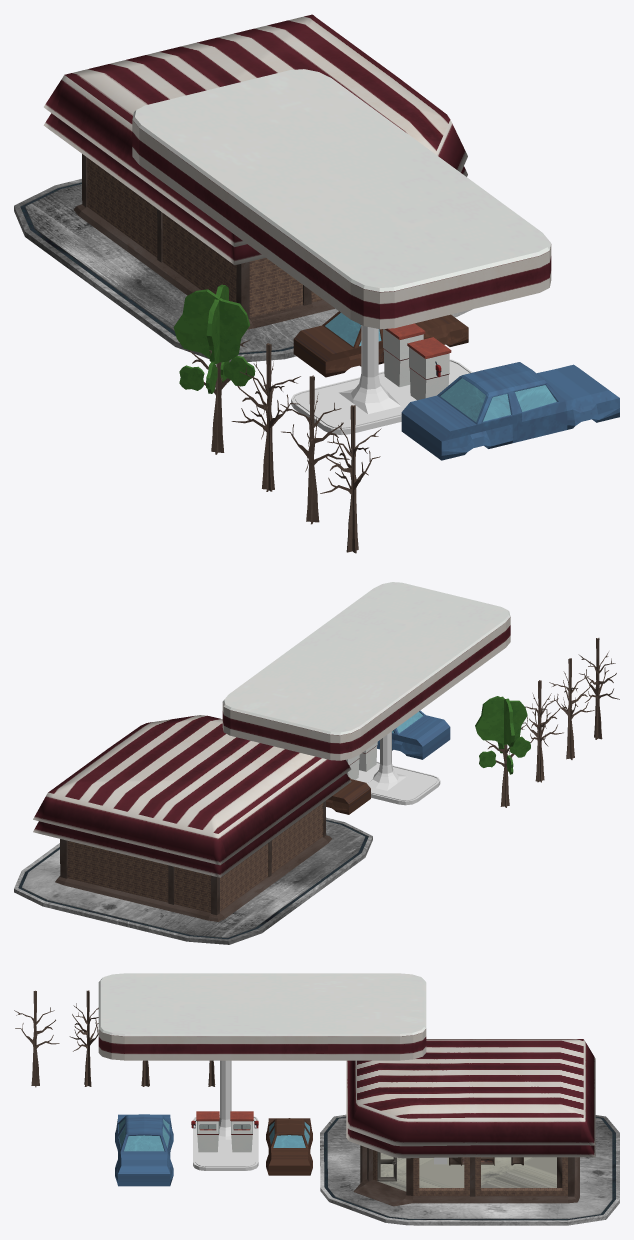
Rendered from MelOMart_roughTexture1.fbx.
The picture shows the model from 3 angles, top to bottom: view 1: azimuth 30°, elevation 25°; view 2: azimuth 150°, elevation 25°; view 3: azimuth 270°, elevation 25°; orthographic projection. The views are drawn at different scales.
Parts seen in each view (by area): view 1: melOmart-gas-awning, melOmart-building-ext.001, melOmart-building-roof-top.002, car_base, melOmart-awning-post, car_base.001, melOmart-building-roof-top.001, Cube.017, gas_pump.001, gas_pump, Cube.008, Cube.010 (+5 smaller); view 2: melOmart-gas-awning, melOmart-building-roof-top.002, melOmart-building-ext.001, melOmart-building-roof-top.001, melOmart-awning-post, car_base, Cube.013, car_base.001, Cube.009, Cube.010, Cube.002; view 3: melOmart-gas-awning, melOmart-building-roof-top.002, melOmart-building-ext.001, car_base, melOmart-building-roof-top.001, melOmart-awning-post, car_base.001, gas_pump.001, gas_pump, Cube.007, Cube.009.
Part boxes in pixels (x1,y1,x2,y2): melOmart-gas-awning: [132, 69, 551, 329]; melOmart-building-ext.001: [14, 154, 472, 362]; melOmart-building-roof-top.002: [44, 14, 467, 246]; car_base: [401, 362, 619, 460]; melOmart-awning-post: [291, 325, 472, 434]; car_base.001: [293, 311, 468, 377]; melOmart-building-roof-top.001: [43, 113, 467, 265]; Cube.017: [173, 289, 249, 362]; gas_pump.001: [407, 337, 451, 400]; gas_pump: [383, 323, 425, 387]; Cube.008: [280, 376, 349, 522]; Cube.010: [320, 405, 381, 552]; melOmart-gas-awning: [222, 582, 510, 760]; melOmart-building-roof-top.002: [33, 715, 351, 865]; melOmart-building-ext.001: [14, 801, 372, 944]; melOmart-building-roof-top.001: [33, 773, 351, 877]; melOmart-awning-post: [355, 731, 440, 805]; car_base: [377, 710, 450, 759]; Cube.013: [475, 696, 527, 744]; car_base.001: [326, 777, 370, 814]; Cube.009: [549, 658, 594, 759]; Cube.010: [578, 638, 619, 739]; Cube.002: [523, 680, 563, 781]; melOmart-gas-awning: [98, 973, 426, 1060]; melOmart-building-roof-top.002: [346, 1039, 595, 1146]; melOmart-building-ext.001: [320, 1114, 619, 1225]; car_base: [115, 1114, 173, 1186]; melOmart-building-roof-top.001: [346, 1126, 595, 1158]; melOmart-awning-post: [193, 1060, 258, 1170]; car_base.001: [266, 1118, 312, 1175]; gas_pump.001: [196, 1111, 219, 1152]; gas_pump: [230, 1111, 253, 1152]; Cube.007: [14, 991, 59, 1085]; Cube.009: [69, 990, 98, 1086].
Bounding box in the file's own units: 1336 × 579 × 2323.
